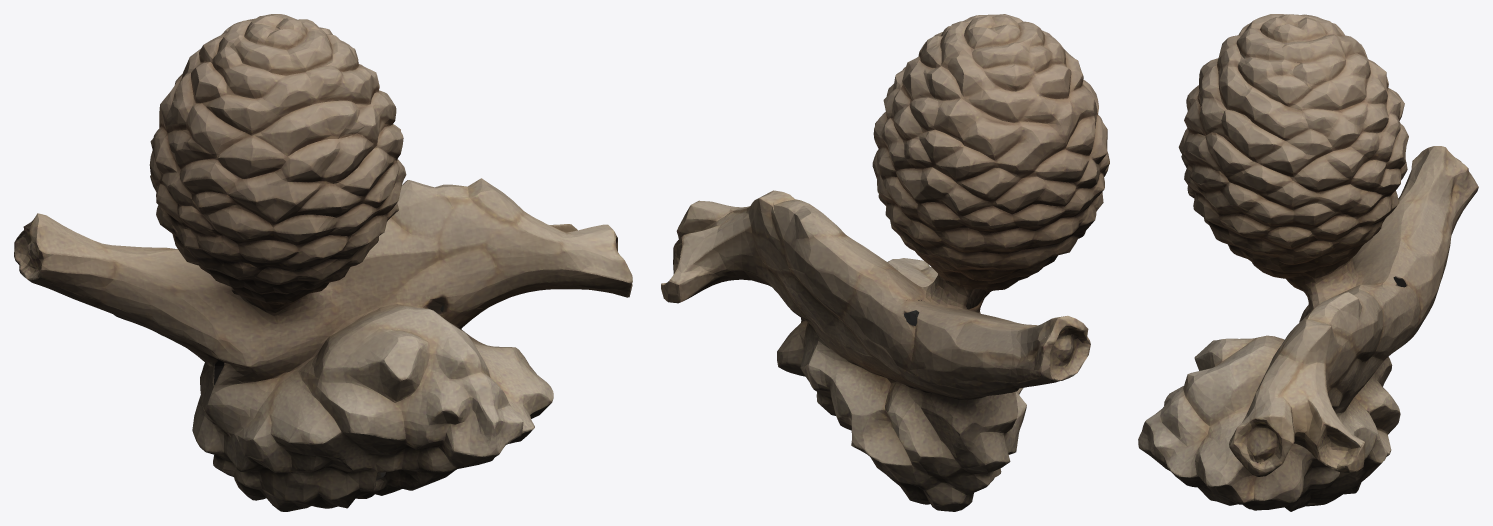
3 renders of one model, left to right at view 1: azimuth 30°, elevation 25°; view 2: azimuth 150°, elevation 25°; view 3: azimuth 270°, elevation 25°, orthographic. The views are drawn at different scales.
Visible parts, largest first — view 1: world; view 2: world; view 3: world.
Part boxes in pixels (x1,y1,x2,y2): world: (14,14,632,511); world: (661,14,1109,511); world: (1138,14,1478,511).
Bounding box in the file's own units: 1 × 0.9495 × 0.6424.
Materials: 1 (1 with a texture image).
